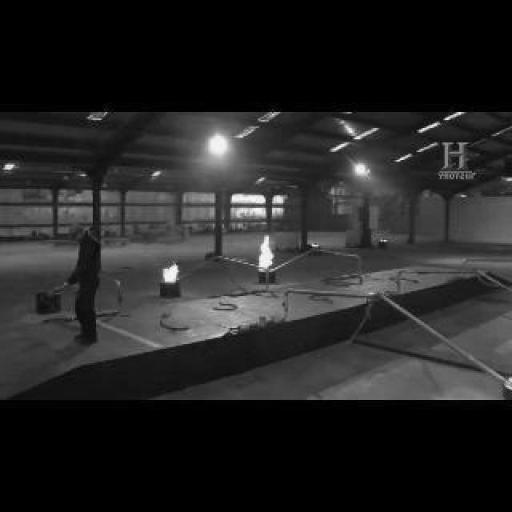smoke: (253, 236, 280, 274), (160, 262, 182, 282)
